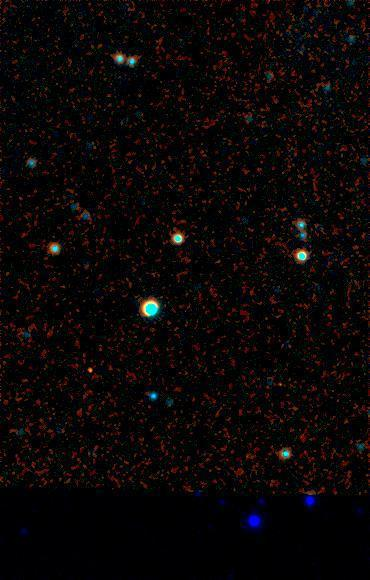star: (76, 354, 106, 384)
